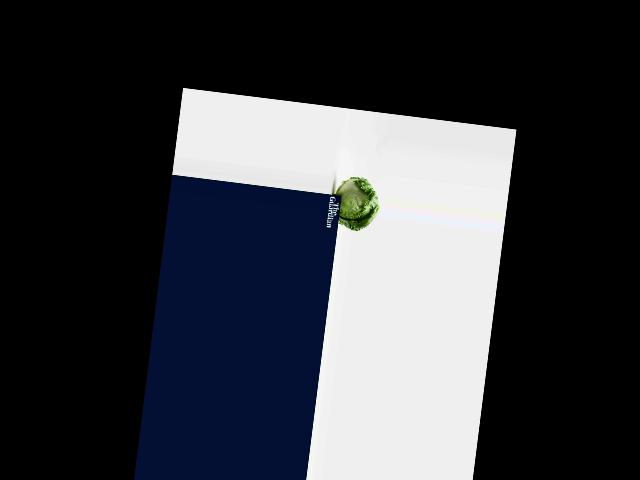lettuce: (331, 175, 384, 232)
